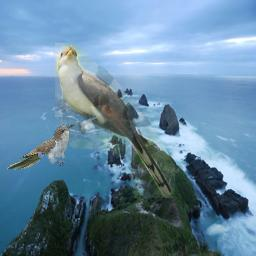Cuckoo: (55, 43, 175, 198), (6, 124, 75, 170)
